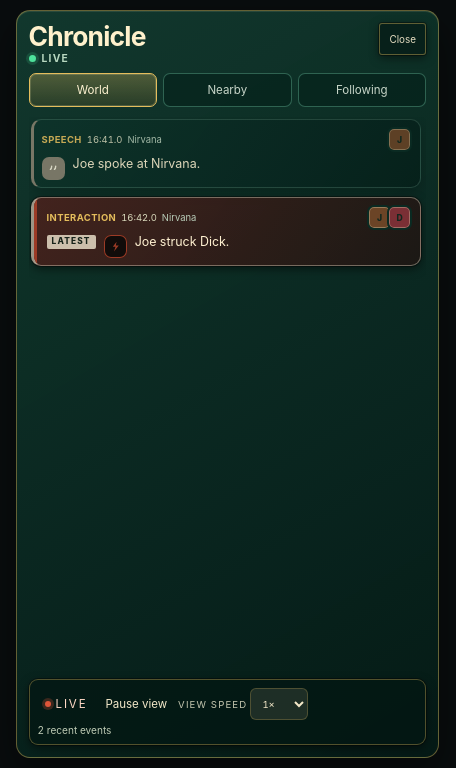
ChronicleKillfeed › replays from anywhere on a card, not only from its sentence
Click the list item with class "chronicle-killfeed__card" that starts with "Speech": [226, 154] box [30,119,421,188]
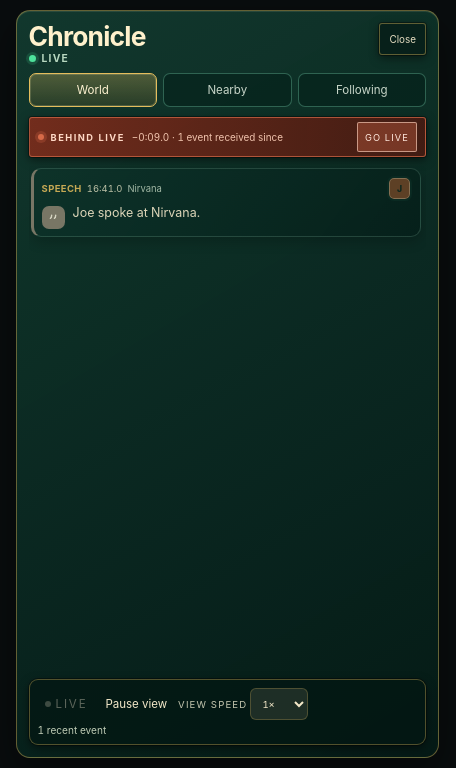
Expected: the message "Behind live −0:09.0 · 1 event received since Go live" is shown, [28,117,426,157]
